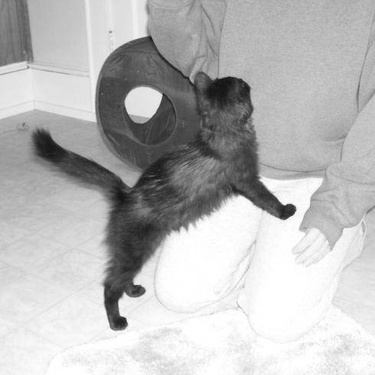cat: (18, 67, 299, 333)
